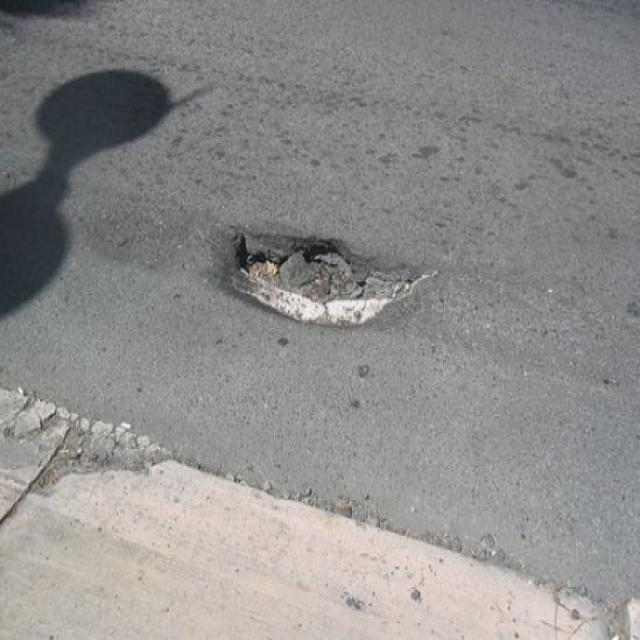pothole: (214, 220, 438, 331)
